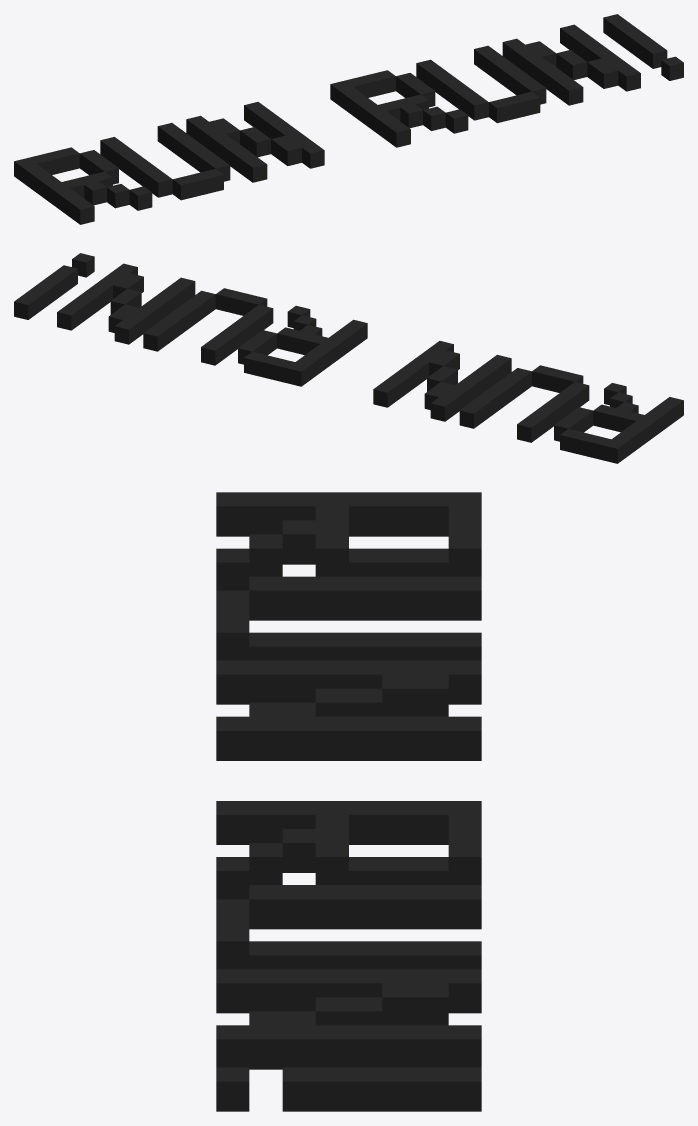
The model's file is StartText.obj.
The picture shows the model from 3 angles, top to bottom: view 1: azimuth 30°, elevation 25°; view 2: azimuth 150°, elevation 25°; view 3: azimuth 270°, elevation 25°; orthographic projection. The views are drawn at different scales.
Bounding box in the file's own units: 4.2 × 0.1 × 0.8.
Materials: 1 (1 with a texture image).
